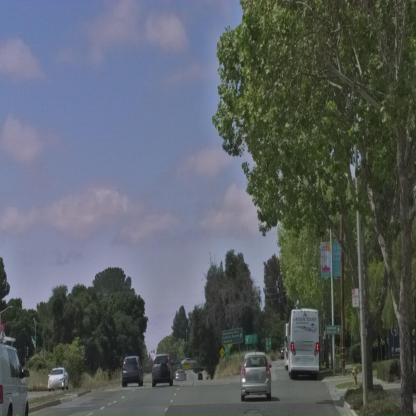bus: (287, 309, 320, 381)
car: (0, 329, 33, 415), (240, 354, 274, 402), (151, 355, 173, 388), (122, 355, 144, 388), (47, 367, 68, 391)
fire hydrant: (352, 367, 358, 385)
